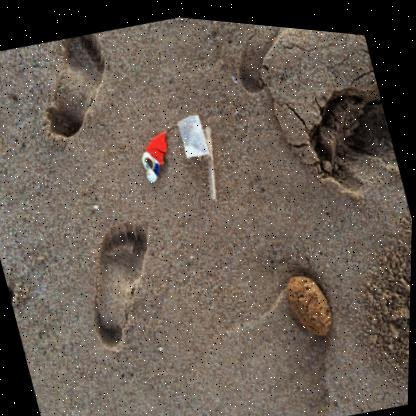Plastic: (178, 111, 210, 155), (204, 122, 217, 195), (147, 128, 168, 163), (143, 149, 160, 179)
